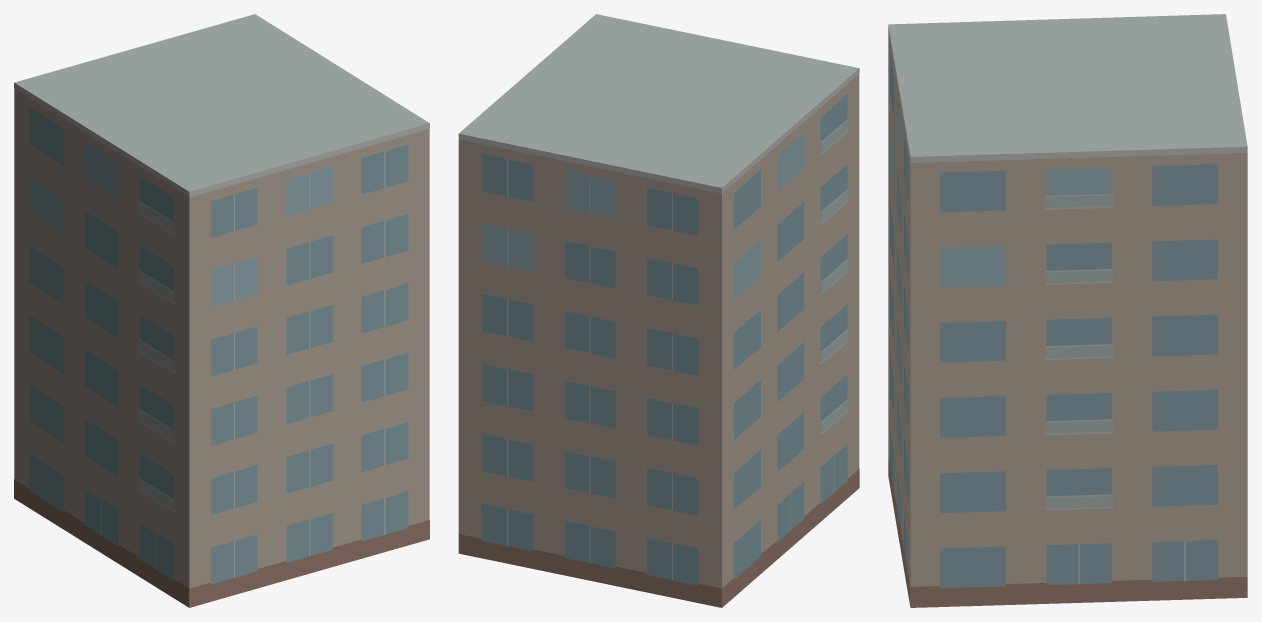
Rendered from survey-upis-32871756.glb.
3 renders of one model, left to right at view 1: azimuth 30°, elevation 25°; view 2: azimuth 150°, elevation 25°; view 3: azimuth 270°, elevation 25°, orthographic. The views are drawn at different scales.
Visible parts, largest first — view 1: survey-upis-32871756.tmp; view 2: survey-upis-32871756.tmp; view 3: survey-upis-32871756.tmp.
Part boxes in pixels (x1,y1,x2,y2): survey-upis-32871756.tmp: (14,14,429,607); survey-upis-32871756.tmp: (458,14,859,607); survey-upis-32871756.tmp: (888,14,1247,607).
Bounding box in the file's own units: 12.44 × 18.3 × 13.22.
